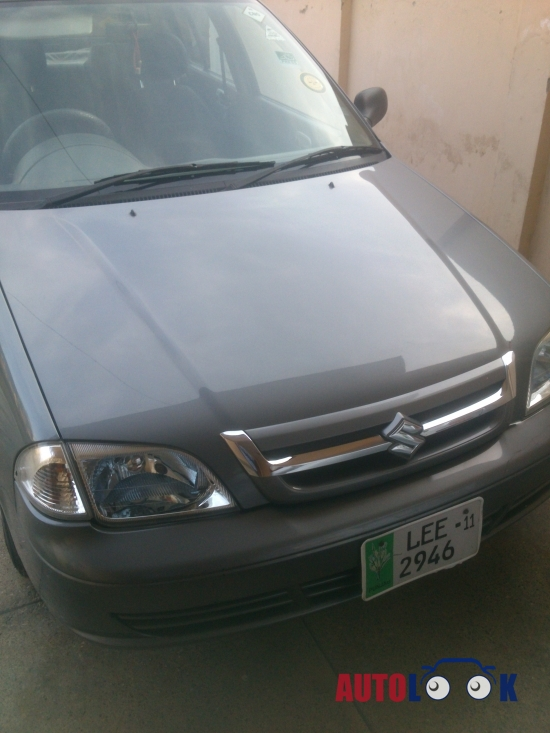plate: (346, 489, 488, 605)
